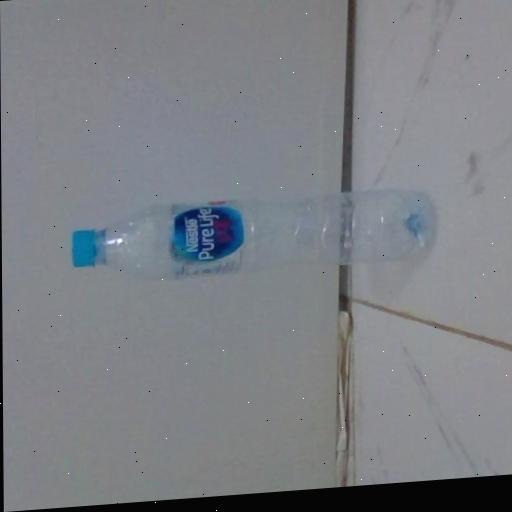bottle: (56, 167, 446, 297)
